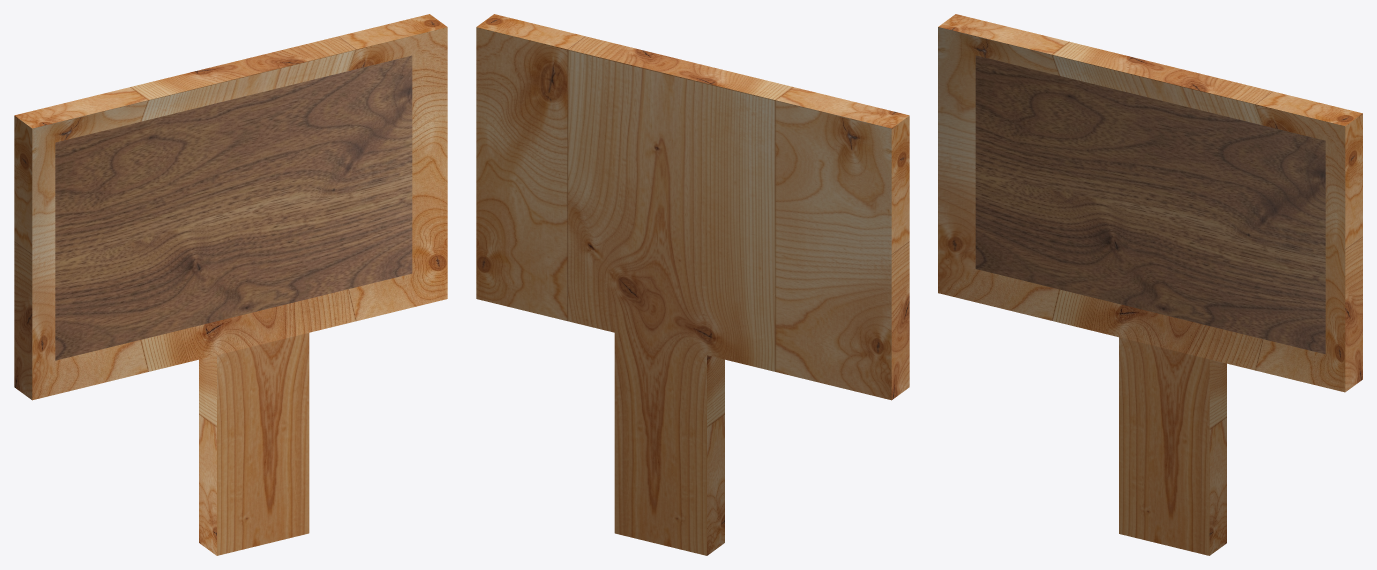
File: sign1.glb
The picture shows the model from 3 angles, left to right: view 1: azimuth 30°, elevation 25°; view 2: azimuth 150°, elevation 25°; view 3: azimuth 330°, elevation 25°; orthographic projection. The views are drawn at different scales.
Visible parts, largest first — view 1: Sign_Board_Pine; view 2: Sign_Board_Pine; view 3: Sign_Board_Pine.
Part boxes in pixels (box(x1,y1,x2,y2)): Sign_Board_Pine: box(14, 14, 447, 555); Sign_Board_Pine: box(476, 14, 909, 555); Sign_Board_Pine: box(938, 14, 1362, 555).
Size of the model in its own units: 0.6493 by 0.7055 by 0.0487.
2 materials, 2 textured.
